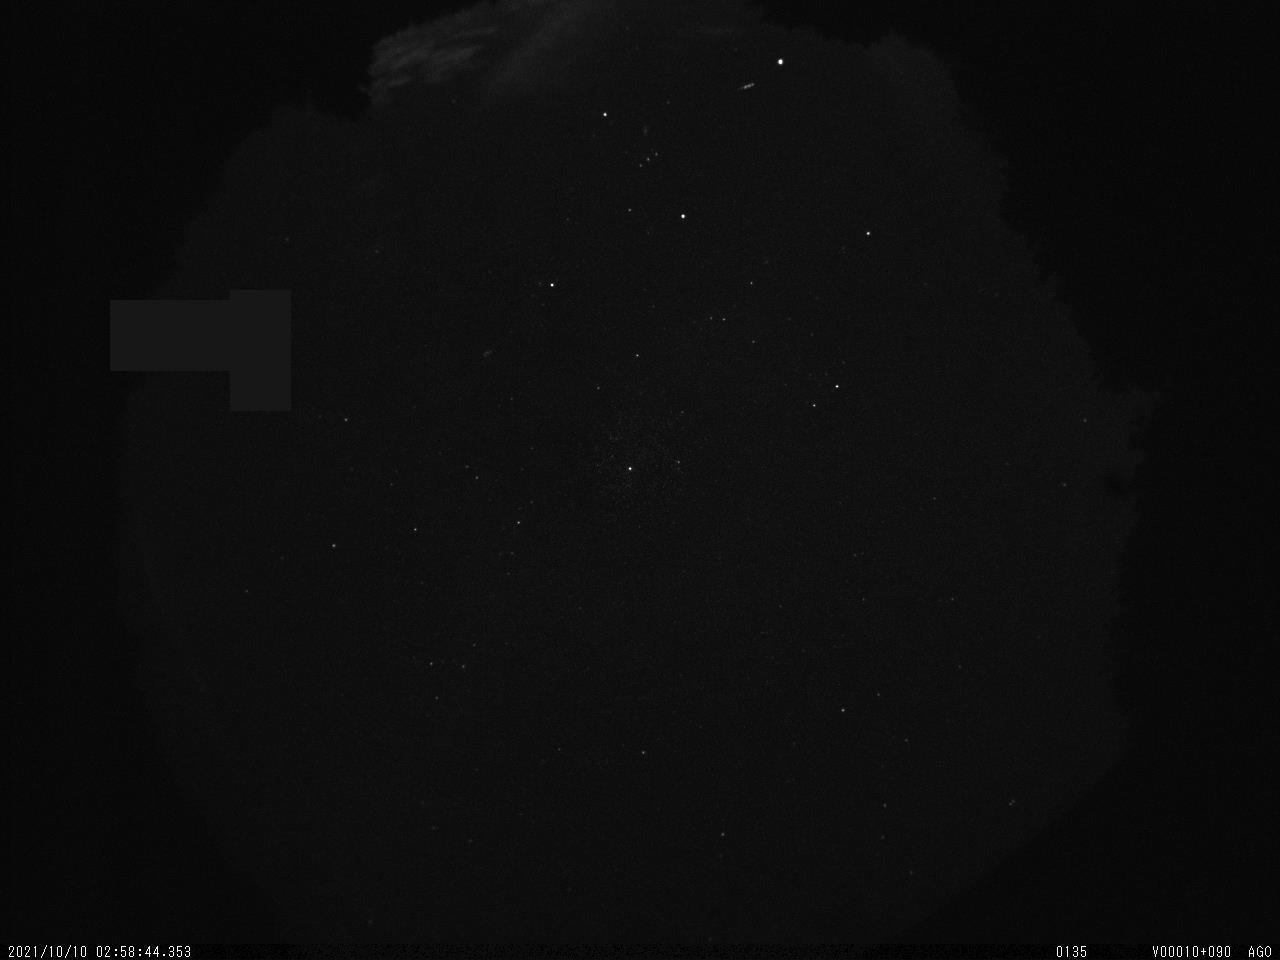meteor: (734, 76, 763, 98)
